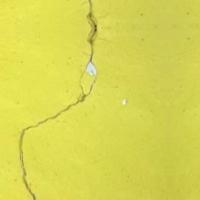crack: (14, 3, 108, 199)
